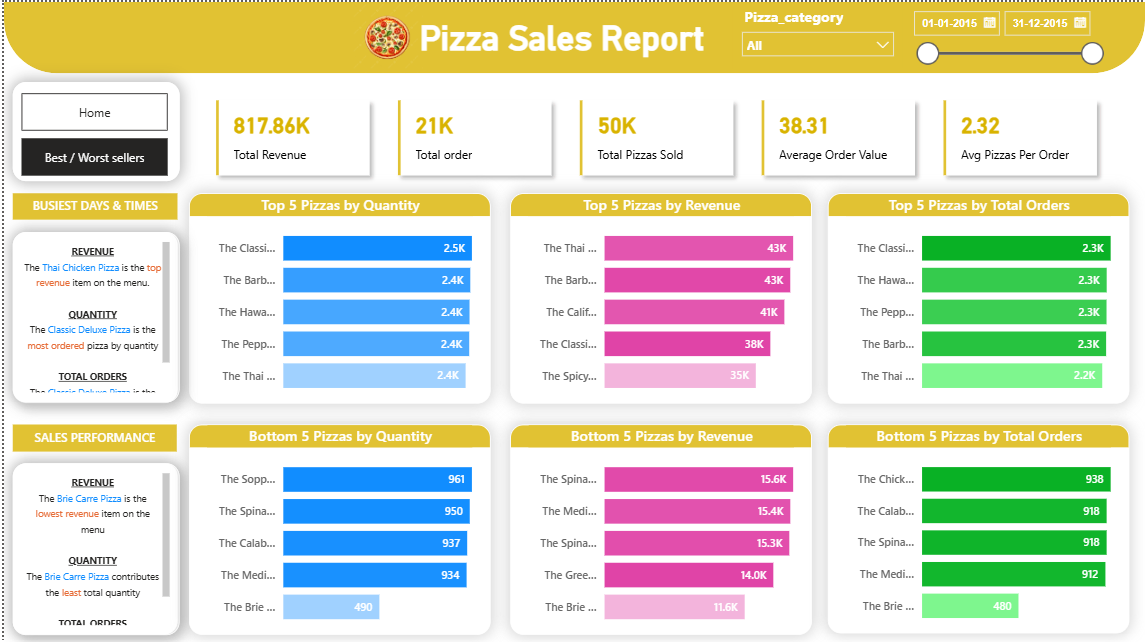

What the dashboard file says about the page in this screenshot:
{"tool":"powerbi","page":{"name":"Best / Worst sellers","canvas":[1280,720],"ordinal":1},"visuals":[{"type":"cardVisual","fields":{"Data":["public pizza_sales.Total Revenue","public pizza_sales.Total order","public pizza_sales.Total Pizzas Sold","public pizza_sales.Average Order Value","public pizza_sales.Avg Pizzas Per Order"]},"box":[207.1,80,1050,144.3],"z":0},{"type":"shape","box":[0,0,1280,80],"z":1000},{"type":"textbox","box":[461.1,12.3,356.8,54.9],"z":2000},{"type":"clusteredBarChart","title":"Top 5 Pizzas by Quantity","fields":{"Category":["public pizza_sales.pizza_name"],"Y":["Sum(public pizza_sales.quantity)"]},"box":[207.1,214.3,338.6,235.7],"z":3000},{"type":"shape","box":[9.8,258,185.1,192.1],"z":4000},{"type":"textbox","box":[10,258.6,187.1,191.4],"z":5000},{"type":"textbox","box":[9.8,214.5,185.1,29.4],"z":6000},{"type":"shape","box":[9.8,517.4,185.1,192.1],"z":7000},{"type":"textbox","box":[10,517.1,187.1,192.9],"z":8000},{"type":"textbox","box":[10,474.3,184.3,30],"z":9000},{"type":"shape","box":[10,90,187.1,111.4],"z":10000},{"type":"pageNavigator","box":[20,102.9,164.3,42.9],"z":11000},{"type":"pageNavigator","box":[20,152.9,164.3,42.9],"z":12000},{"type":"clusteredBarChart","title":"Top 5 Pizzas by Revenue ","fields":{"Category":["public pizza_sales.pizza_name"],"Y":["public pizza_sales.Total Revenue"]},"box":[568.6,214.3,338.6,235.7],"z":13000},{"type":"clusteredBarChart","title":"Top 5 Pizzas by Total Orders","fields":{"Y":["public pizza_sales.Total order"],"Category":["public pizza_sales.pizza_name"]},"box":[924.3,214.3,338.6,235.7],"z":14000},{"type":"clusteredBarChart","title":"Bottom 5 Pizzas by Quantity","fields":{"Category":["public pizza_sales.pizza_name"],"Y":["Sum(public pizza_sales.quantity)"]},"box":[207.1,474.3,338.6,235.7],"z":15000},{"type":"clusteredBarChart","title":"Bottom 5 Pizzas by Revenue ","fields":{"Category":["public pizza_sales.pizza_name"],"Y":["public pizza_sales.Total Revenue"]},"box":[568.6,474.3,338.6,235.7],"z":16000},{"type":"clusteredBarChart","title":"Bottom 5 Pizzas by Total Orders","fields":{"Category":["public pizza_sales.pizza_name"],"Y":["public pizza_sales.Total order"]},"box":[924.3,474.3,338.6,234.3],"z":17000},{"type":"slicer","fields":{"Values":["public pizza_sales.pizza_category"]},"box":[817.5,0,190.7,74.3],"z":18000},{"type":"slicer","fields":{"Values":["public pizza_sales.order_date"]},"box":[1008.2,0,234.2,74.3],"z":19000},{"type":"image","box":[291.4,0,277.1,80],"z":20000}]}

Visuals, with their boxes in screenshot pixels (x1, y1, x2, y2), scaled from the page's 1280x720 canvas onto the 1145x642 screenshot:
cardVisual - public pizza_sales.Total Revenue x public pizza_sales.Total order: locate(185, 71, 1125, 200)
shape: locate(0, 0, 1144, 71)
textbox: locate(412, 11, 732, 60)
"Top 5 Pizzas by Quantity" clusteredBarChart: locate(185, 191, 488, 401)
shape: locate(9, 230, 174, 401)
textbox: locate(9, 231, 176, 401)
textbox: locate(9, 191, 174, 217)
shape: locate(9, 461, 174, 633)
textbox: locate(9, 461, 176, 633)
textbox: locate(9, 423, 174, 450)
shape: locate(9, 80, 176, 180)
pageNavigator: locate(18, 92, 165, 130)
pageNavigator: locate(18, 136, 165, 175)
"Top 5 Pizzas by Revenue " clusteredBarChart: locate(509, 191, 812, 401)
"Top 5 Pizzas by Total Orders" clusteredBarChart: locate(827, 191, 1130, 401)
"Bottom 5 Pizzas by Quantity" clusteredBarChart: locate(185, 423, 488, 633)
"Bottom 5 Pizzas by Revenue " clusteredBarChart: locate(509, 423, 812, 633)
"Bottom 5 Pizzas by Total Orders" clusteredBarChart: locate(827, 423, 1130, 632)
slicer - public pizza_sales.pizza_category: locate(731, 0, 902, 66)
slicer - public pizza_sales.order_date: locate(902, 0, 1111, 66)
image: locate(261, 0, 509, 71)
